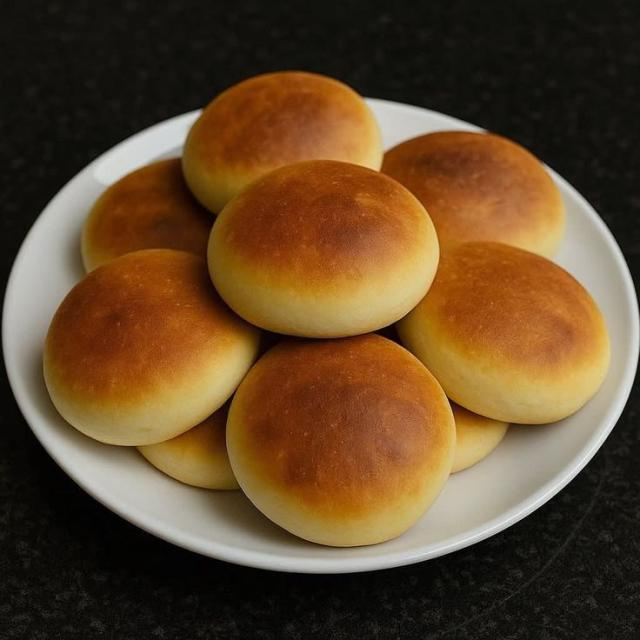bread: (227, 334, 455, 546), (44, 250, 259, 445), (208, 160, 439, 337), (398, 243, 609, 423), (183, 72, 382, 212), (382, 132, 564, 257), (81, 159, 213, 271), (139, 404, 238, 489), (452, 403, 508, 473)
